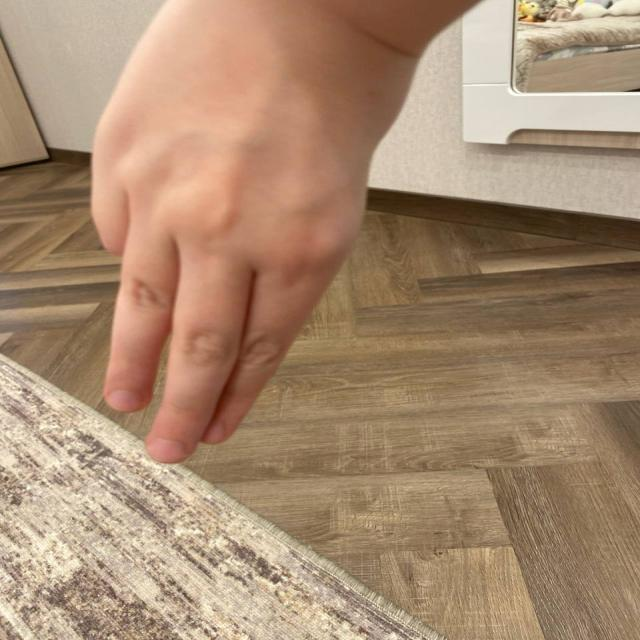t: (78, 70, 380, 480)
